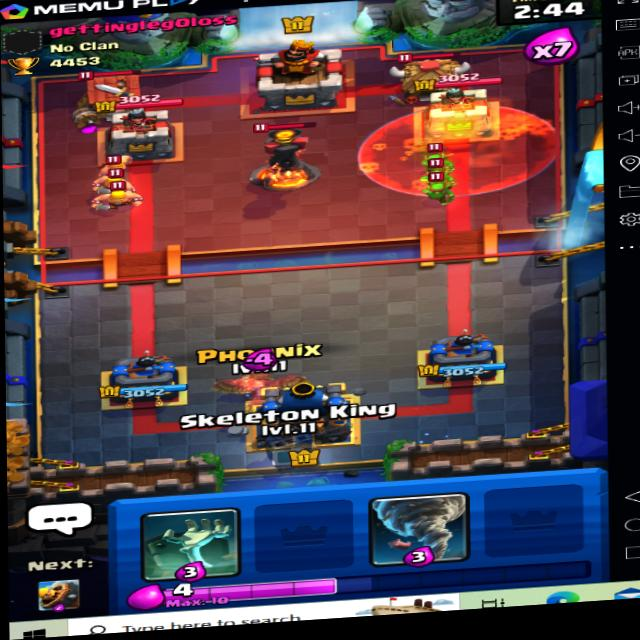barbarian: (93, 179, 139, 213), (88, 171, 131, 194), (98, 150, 134, 174)
barbarian-hut: (72, 63, 149, 129)
goblin-hut: (391, 44, 473, 103)
inferno-tower: (243, 116, 326, 191)
spear-goblin: (417, 174, 457, 204), (420, 161, 455, 187), (420, 143, 444, 170)
